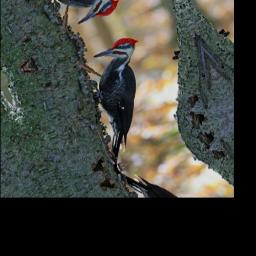Woodpecker: (66, 31, 184, 169)
